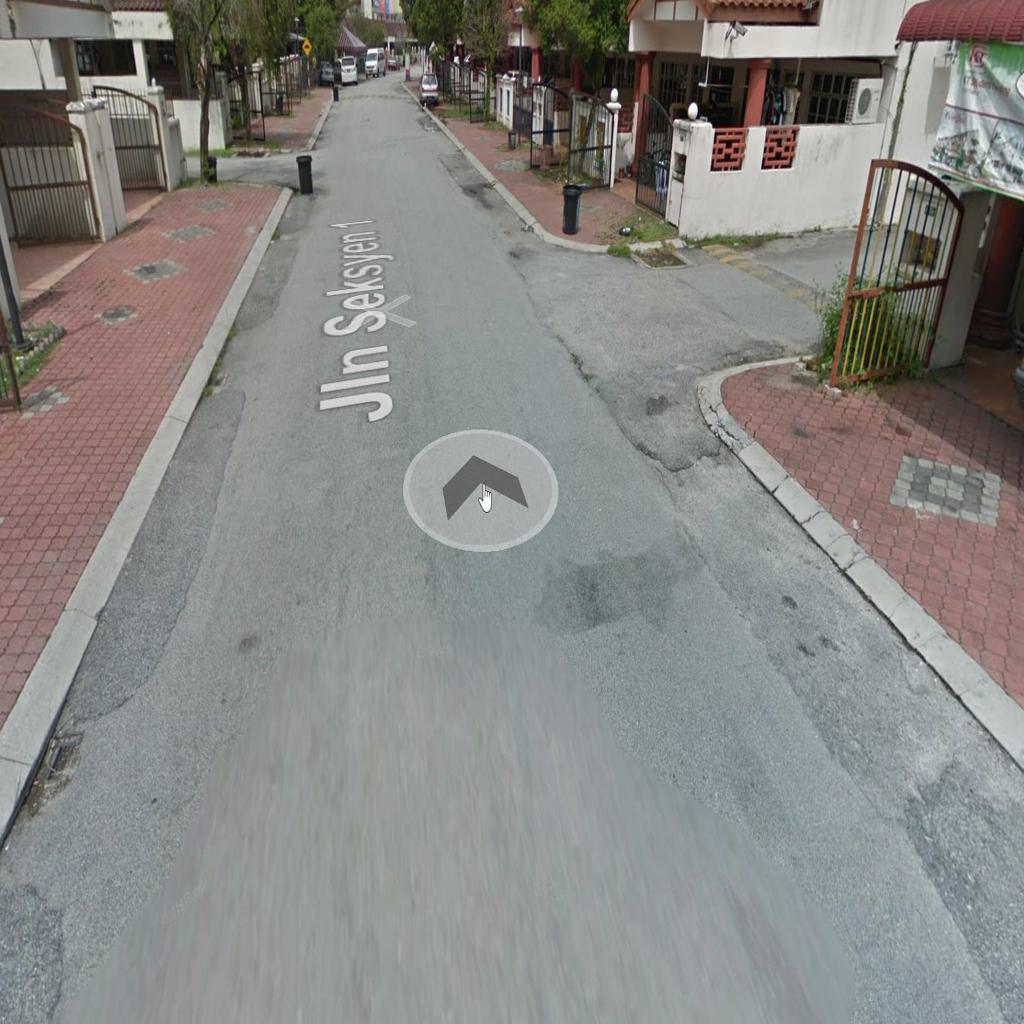Junction: (516, 203, 871, 418), (181, 122, 330, 216)
